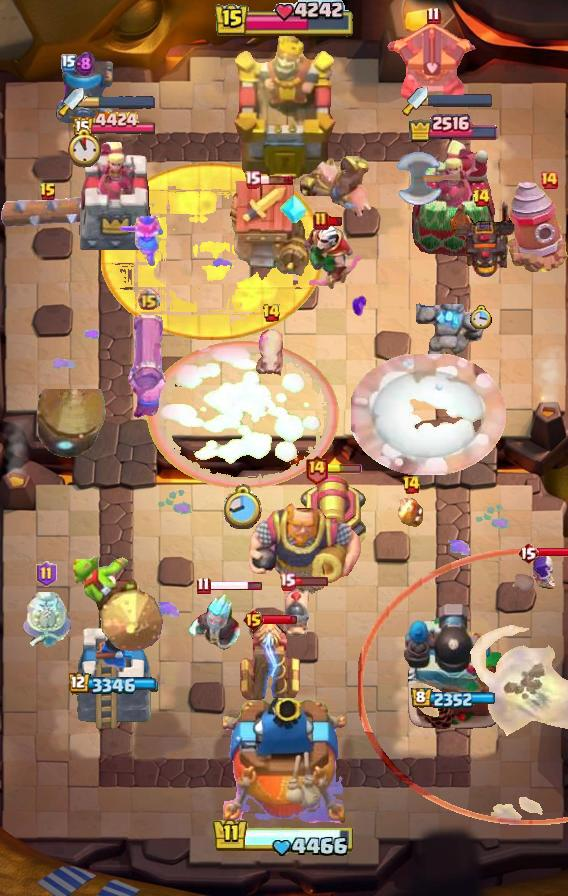archer-evolution: (444, 198, 518, 280)
bar: (409, 138, 497, 256), (73, 140, 155, 256)
battle-healer: (125, 315, 171, 419)
bomber: (396, 498, 426, 530)
clock: (212, 817, 356, 859), (213, 0, 355, 40)
electro-spirit: (73, 51, 94, 77)
elixir: (224, 484, 263, 531), (65, 128, 103, 168), (470, 305, 492, 329)
elixir-collector: (18, 590, 74, 650)
emote: (209, 580, 264, 593), (258, 174, 294, 186), (262, 614, 298, 626), (293, 577, 329, 588), (326, 464, 362, 474), (537, 546, 567, 557), (327, 217, 344, 228)
executioner: (280, 582, 312, 640)
freeze: (296, 155, 374, 223)
giant: (255, 326, 287, 376)
giant-skeleton: (247, 498, 363, 598)
goblin: (531, 553, 557, 589)
goblin-brawler: (235, 617, 303, 703)
hog-rider: (117, 214, 165, 268)
king-tower: (223, 698, 345, 826), (231, 35, 337, 182)
king-tower-bar: (84, 95, 156, 109), (428, 93, 492, 106)
lava-pup: (387, 20, 479, 102)
magic-archer: (508, 179, 568, 273)
minion: (0, 195, 107, 231)
mortar: (186, 590, 246, 656)
musketeer: (54, 60, 114, 124)
pad_2: (280, 192, 308, 226)
phoenix-big: (146, 339, 340, 490)
phoenix-egg: (101, 162, 325, 342)
queen-tower: (70, 616, 158, 731)
royal-ghost: (358, 547, 568, 825)
royal-giant: (394, 151, 460, 207)
royal-recruit: (296, 474, 368, 548)
selected: (407, 112, 499, 143), (71, 111, 156, 139), (69, 672, 159, 696), (412, 688, 497, 710)
skeleton-king: (301, 222, 365, 292)
sparky: (224, 180, 310, 278)
text: (304, 455, 328, 486), (242, 608, 265, 632), (36, 561, 57, 587), (136, 288, 159, 311), (517, 541, 539, 565), (539, 170, 559, 190), (402, 475, 422, 495), (473, 188, 492, 208), (262, 303, 281, 323), (39, 182, 57, 202), (243, 171, 261, 189), (279, 573, 296, 592), (313, 211, 329, 231), (61, 54, 77, 72), (427, 7, 442, 25), (197, 577, 211, 595)
tower-bar: (403, 601, 503, 731)
valkyrie-evolution: (416, 302, 488, 372)
wall-breaker: (351, 354, 505, 475)
x-bow: (68, 554, 166, 654), (30, 389, 108, 467)
